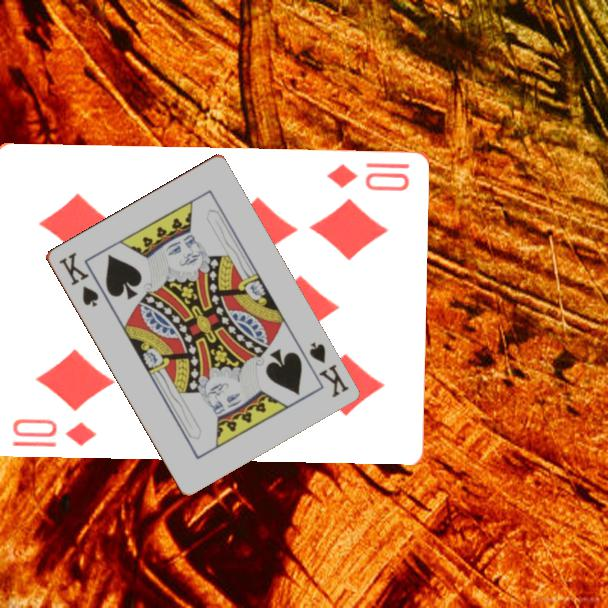d10: (9, 415, 100, 449), (324, 159, 413, 193)
s13: (55, 248, 101, 310), (305, 338, 351, 400)
